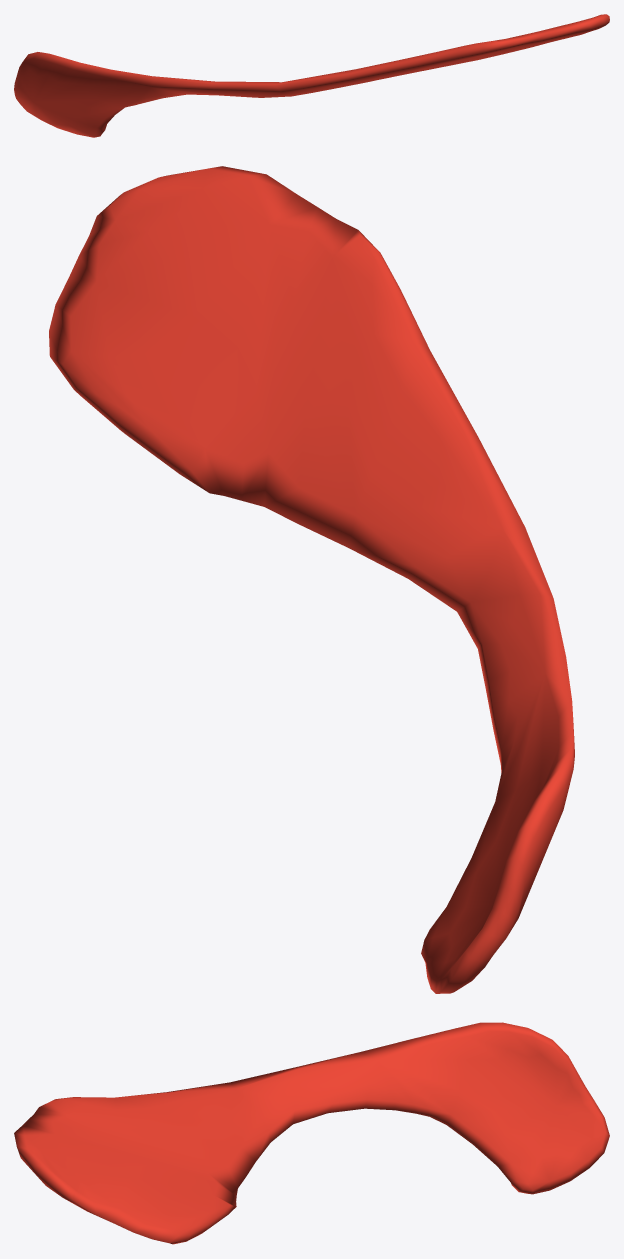
File: Abductor_hallucis_medial_calcaneal_tuberosity_right.glb
3 views of the same model, one above another, from view 1: azimuth 30°, elevation 25°; view 2: azimuth 150°, elevation 25°; view 3: azimuth 270°, elevation 25° (orthographic). The views are drawn at different scales.
Parts seen in each view (by area): view 1: Abductor_hallucis_on_medial_process_of_calcaneal_tuberosity.; view 2: Abductor_hallucis_on_medial_process_of_calcaneal_tuberosity.; view 3: Abductor_hallucis_on_medial_process_of_calcaneal_tuberosity..
Part boxes in pixels (x1,y1,x2,y2): Abductor_hallucis_on_medial_process_of_calcaneal_tuberosity.: [14, 14, 609, 137]; Abductor_hallucis_on_medial_process_of_calcaneal_tuberosity.: [49, 166, 574, 993]; Abductor_hallucis_on_medial_process_of_calcaneal_tuberosity.: [14, 1022, 609, 1244].
Size of the model in its own units: 0.0168 by 0.00733 by 0.0164.
